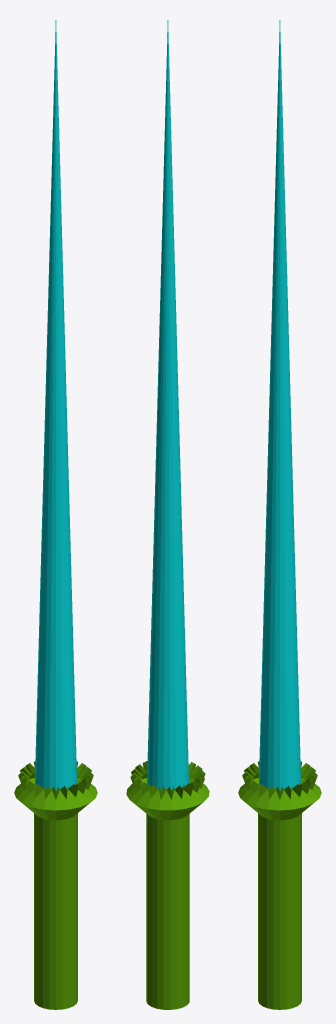
File: swordslashcard.fbx
3 renders of one model, left to right at view 1: azimuth 90°, elevation 25°; view 2: azimuth 150°, elevation 25°; view 3: azimuth 270°, elevation 25°, orthographic.
Visible parts, largest first — view 1: pPipe1; view 2: pPipe1; view 3: pPipe1.
Boxes of the visible parts, x1=… form: pPipe1: x1=14, y1=20, x2=97, y2=1009; pPipe1: x1=126, y1=20, x2=209, y2=1009; pPipe1: x1=238, y1=20, x2=321, y2=1009.
Bounding box in the file's own units: 3.81 × 49.65 × 3.81.
